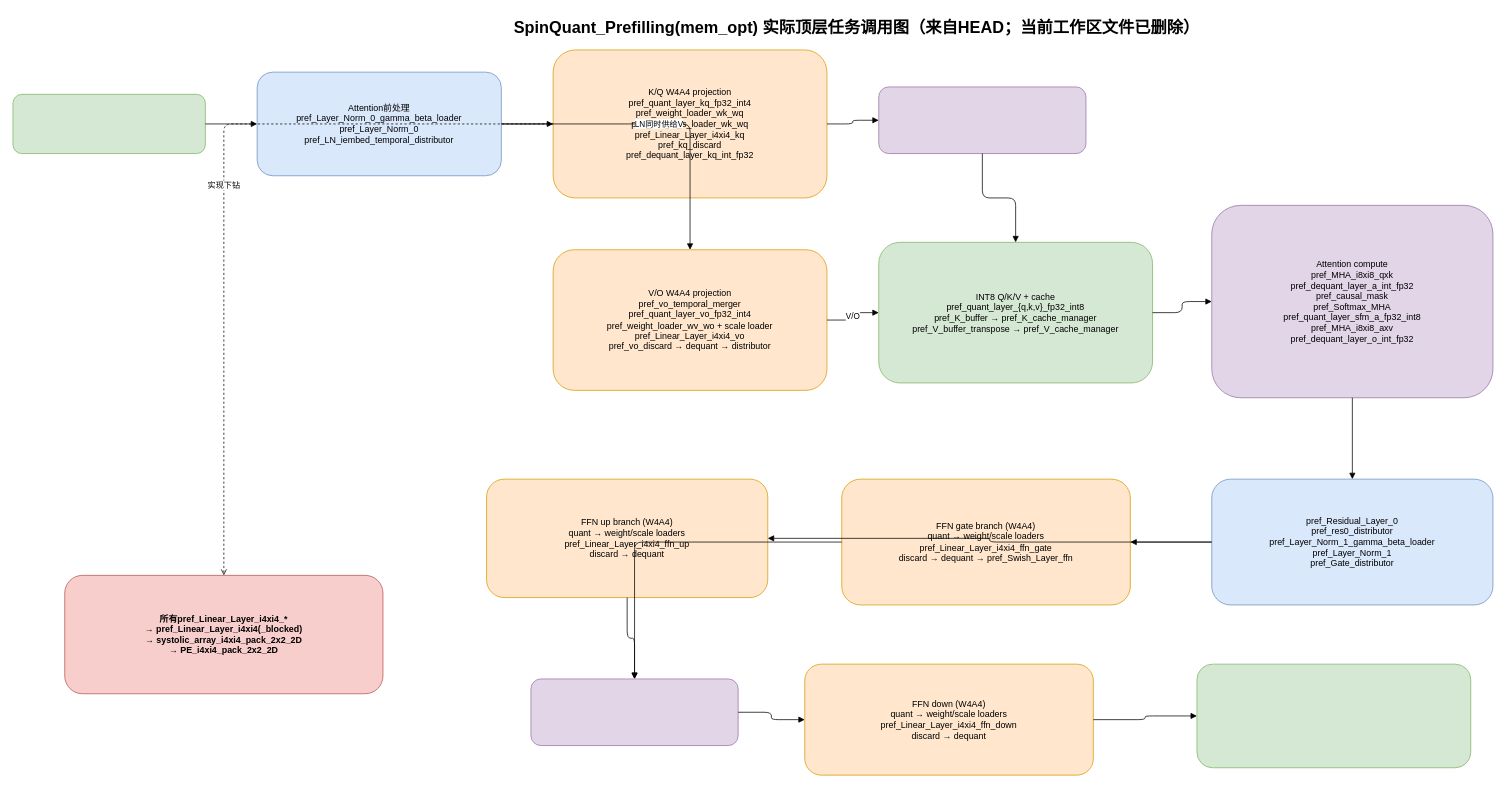
The diagram is 1506 pixels wide and 788 high, and some of its shapes have lost their labels. Each missing label, with the centre of its shape:
pref_block_input_loader_sync pref_iembed_distributor: the point at 108,124
pref_Gate_Layer_ffn pref_FHT_R4: the point at 634,712
pref_Residual_Layer_1 pref_block_output_drainer_sync → io_mmap / pref K,V caches: the point at 1333,715
pref_RoPE_layer_kq pref_qk_temporal_distributor: the point at 982,120
